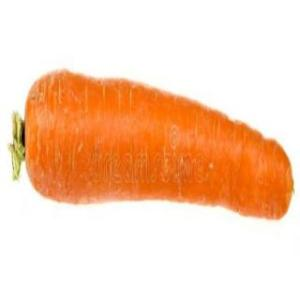carrot: (13, 66, 294, 224)
